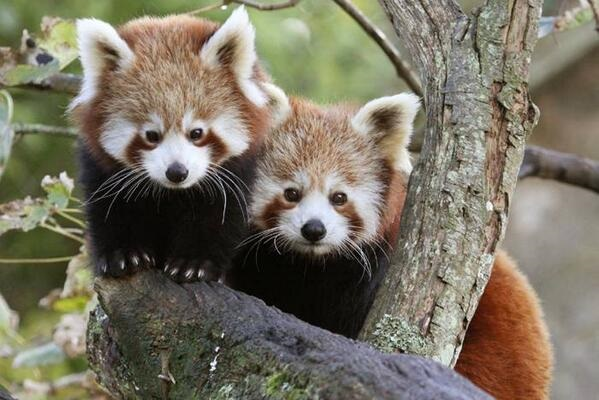red_panda: (242, 83, 562, 399), (66, 13, 269, 295)
